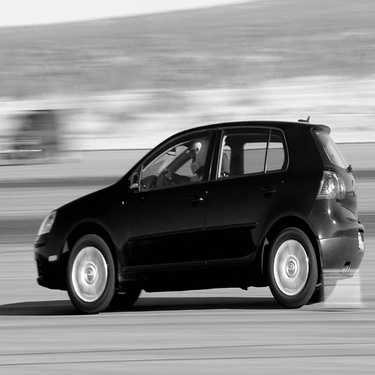car: (21, 107, 367, 319)
